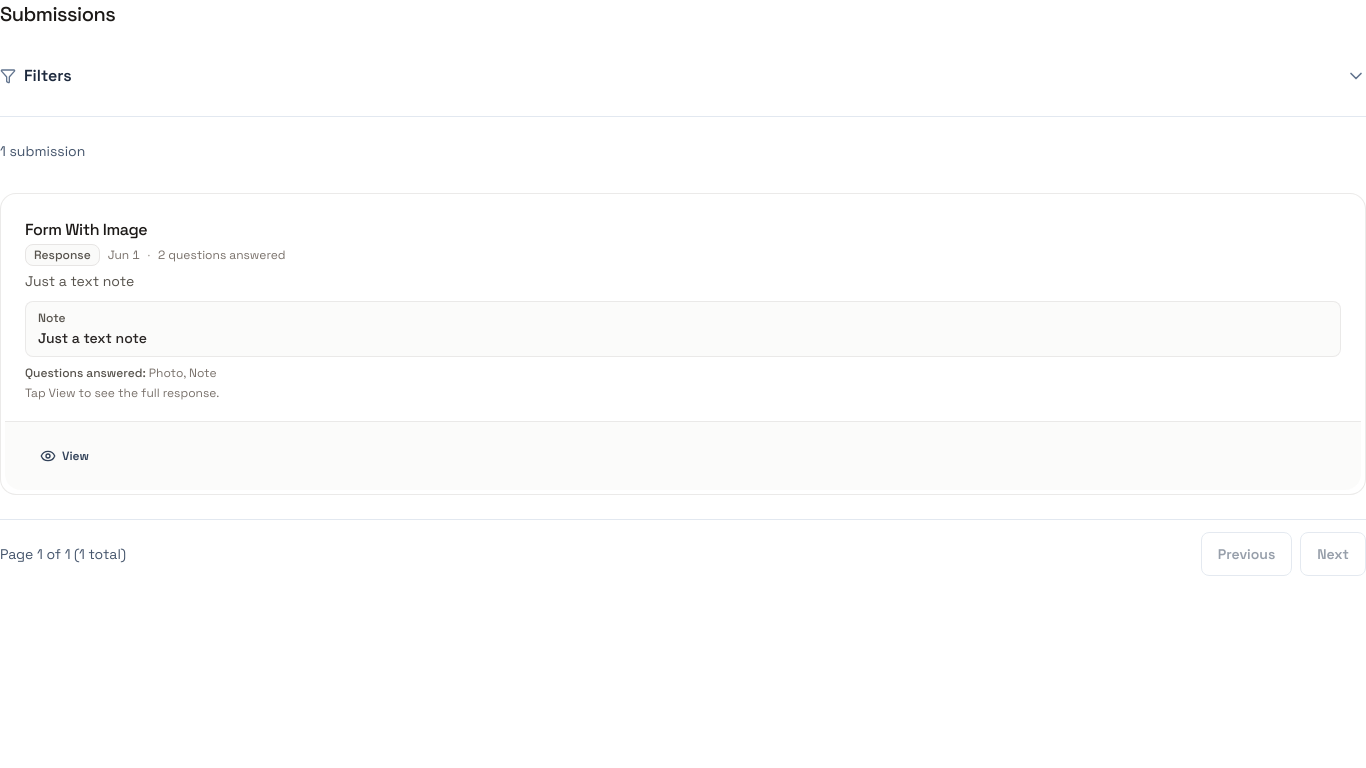
SubmissionsPage › renders image in modal when submission has image field with URL
Click the button "View" at [64, 456], box [25,438,104,474]
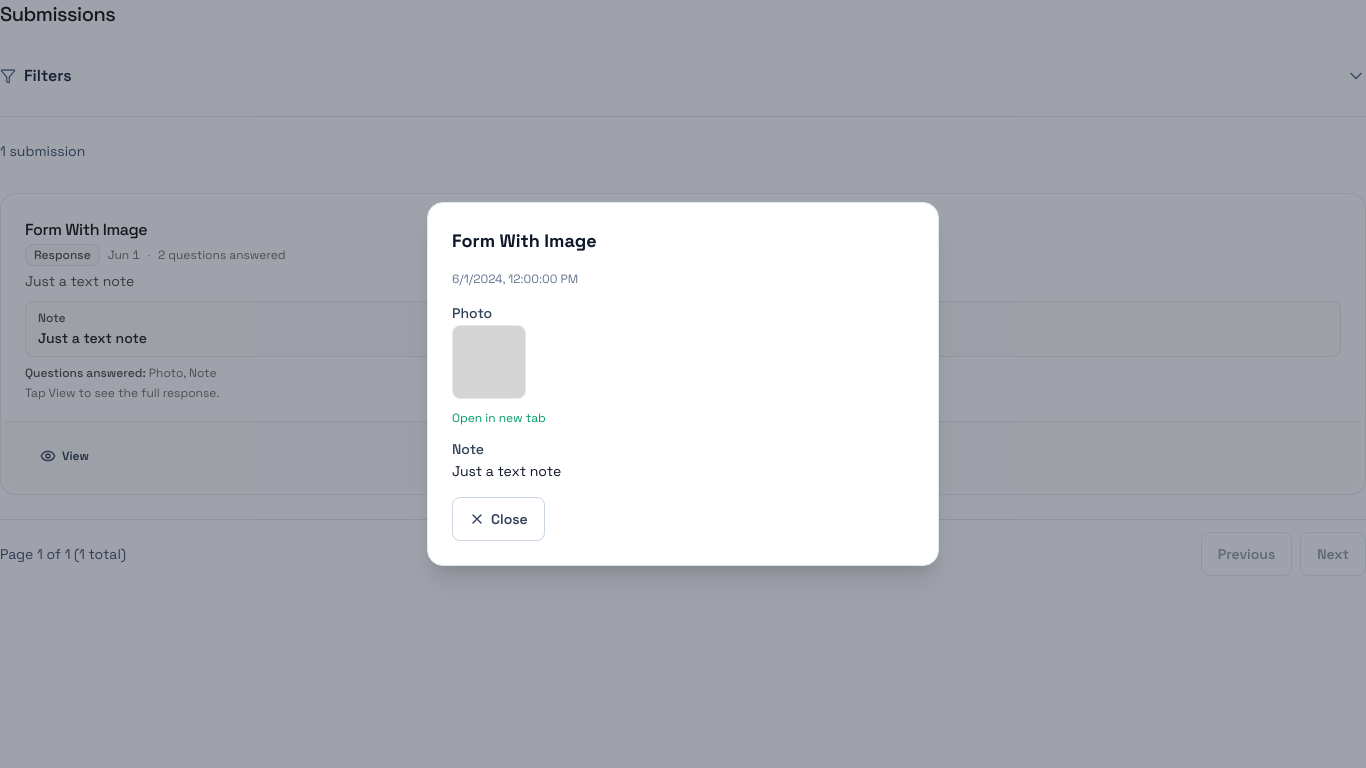
Expected: the link "Open in new tab" is shown, [452,410,546,426]
